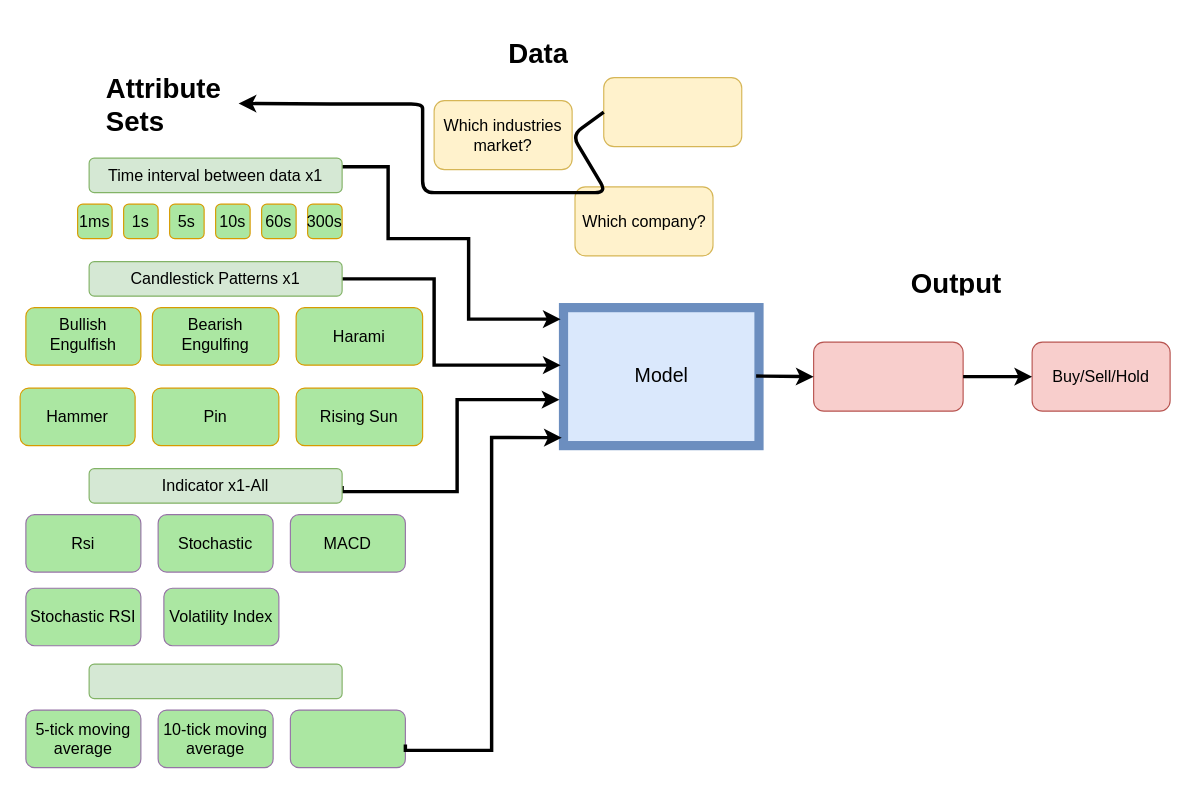
Image size: 1190x788. Some labels were removed from this diagram. The shapes that lost their labels are listed below. From the top down, each one's centre as x and y in pixels, then its label:
the point at 672,111: Which countries market?
the point at 887,376: Level of expected increase or decrease
the point at 215,681: Moving Math Price x1-All
the point at 347,738: moving diffrential
